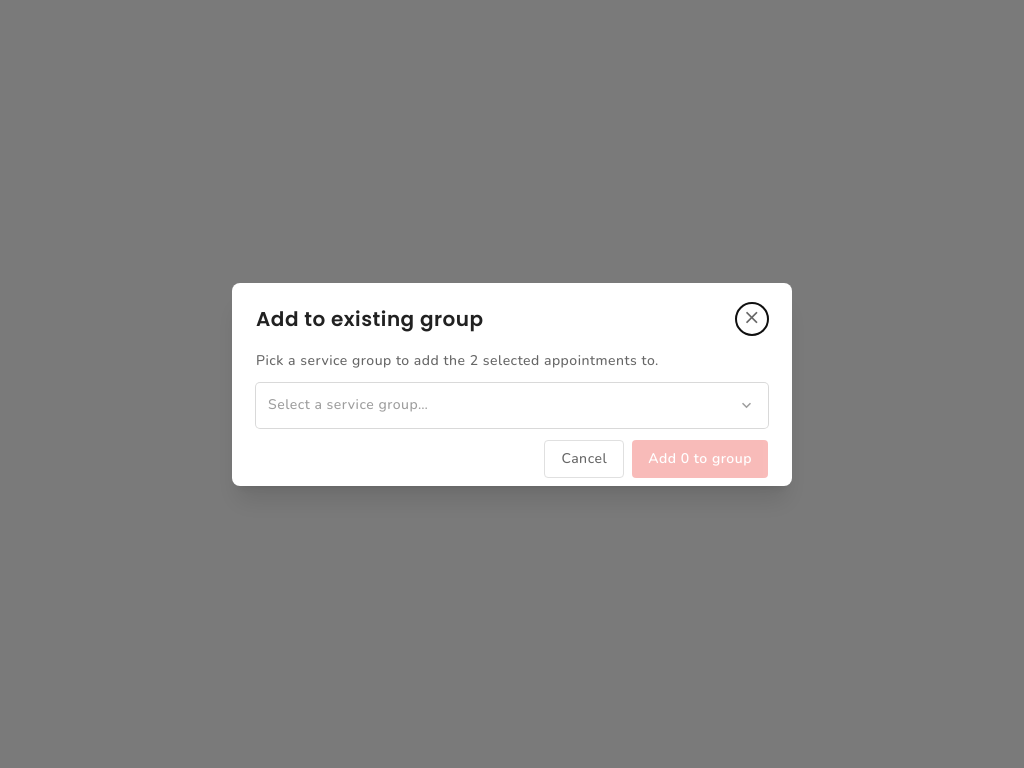
Scenario: MapAddToGroupSubModal › shows the group date in the option label
Click the button labelled "Select a service group…": [348, 404] box [256, 382, 768, 428]
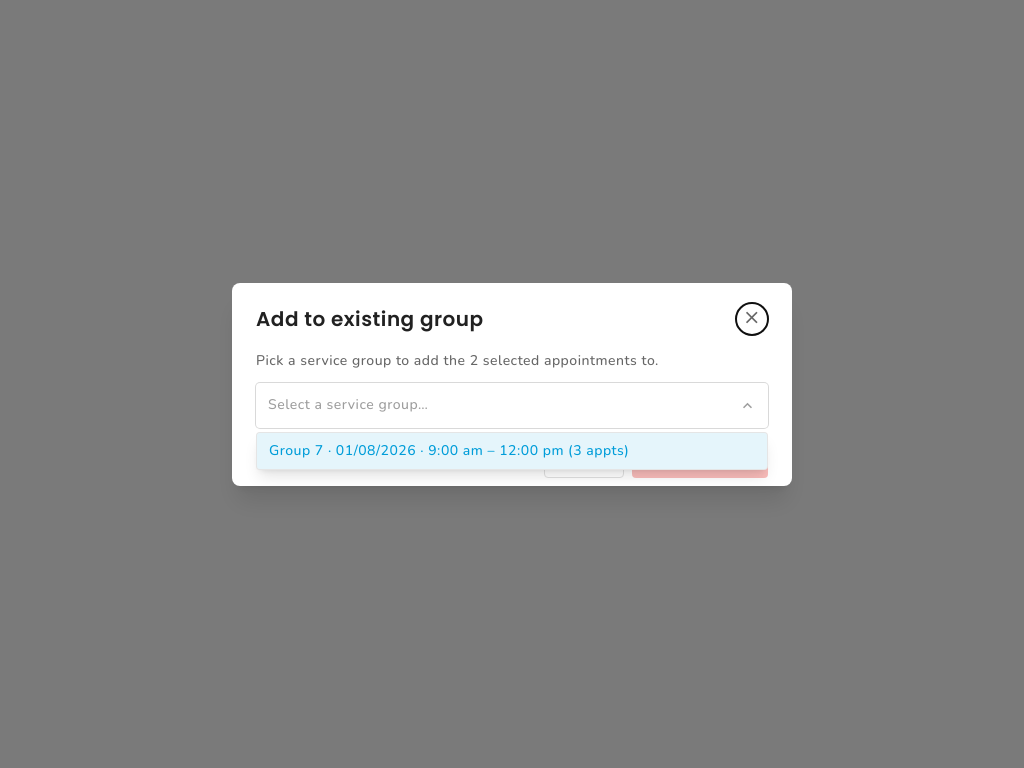
Check: the option "Group 7 · 01/08/2026 · 9:00 am – 12:00 pm (3 appts)" is shown, box [257, 432, 767, 468]
